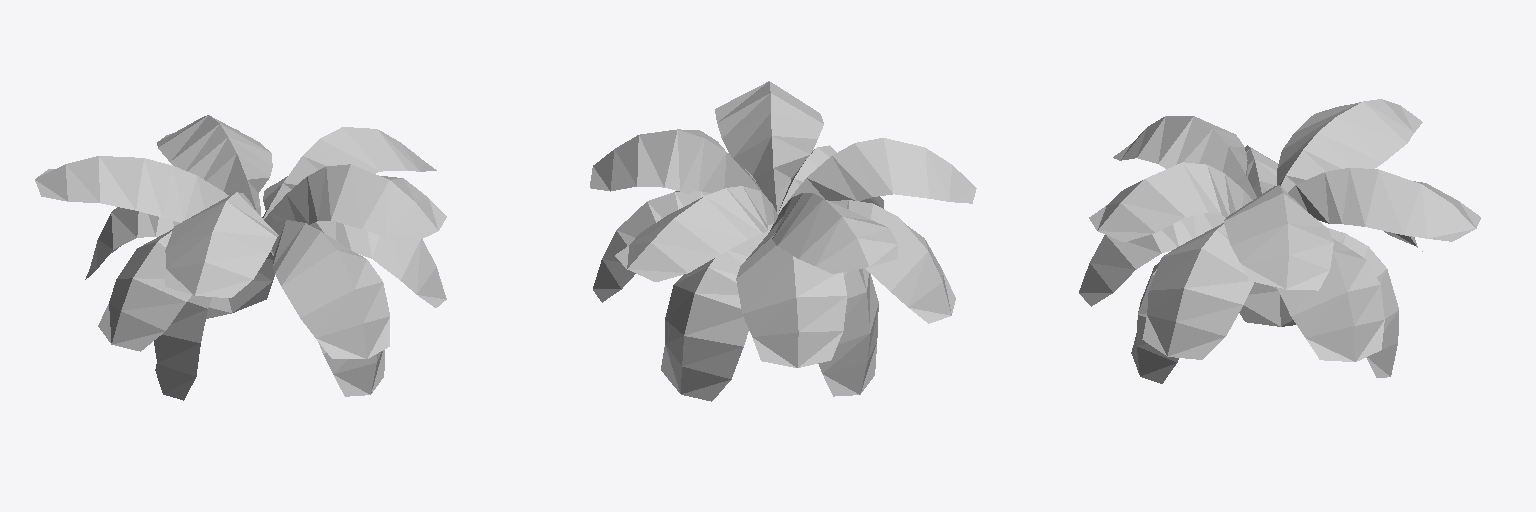
File: Folha1.obj
3 renders of one model, left to right at view 1: azimuth 30°, elevation 25°; view 2: azimuth 150°, elevation 25°; view 3: azimuth 270°, elevation 25°, orthographic.
Visible parts, largest first — view 1: Leaf_1; view 2: Leaf_1; view 3: Leaf_1.
Part boxes in pixels (x1,y1,x2,y2): Leaf_1: (35,115,446,400); Leaf_1: (590,81,976,401); Leaf_1: (1079,99,1480,383).
Size of the model in its own units: 1.11 by 0.7141 by 1.12.